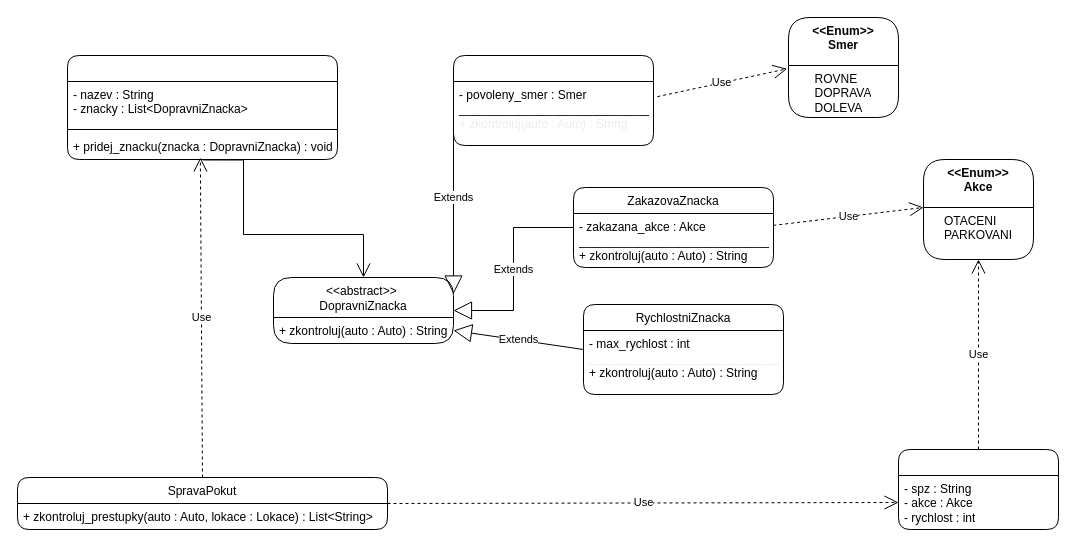
This 1076x550 diagram has some shape labels left out. Here are the shapes that lost their labels. From the top down, the box of each, then its label:
(66, 54, 338, 160): Lokace
(452, 54, 654, 146): SmerovaZnacka
(898, 448, 1058, 530): Auto
